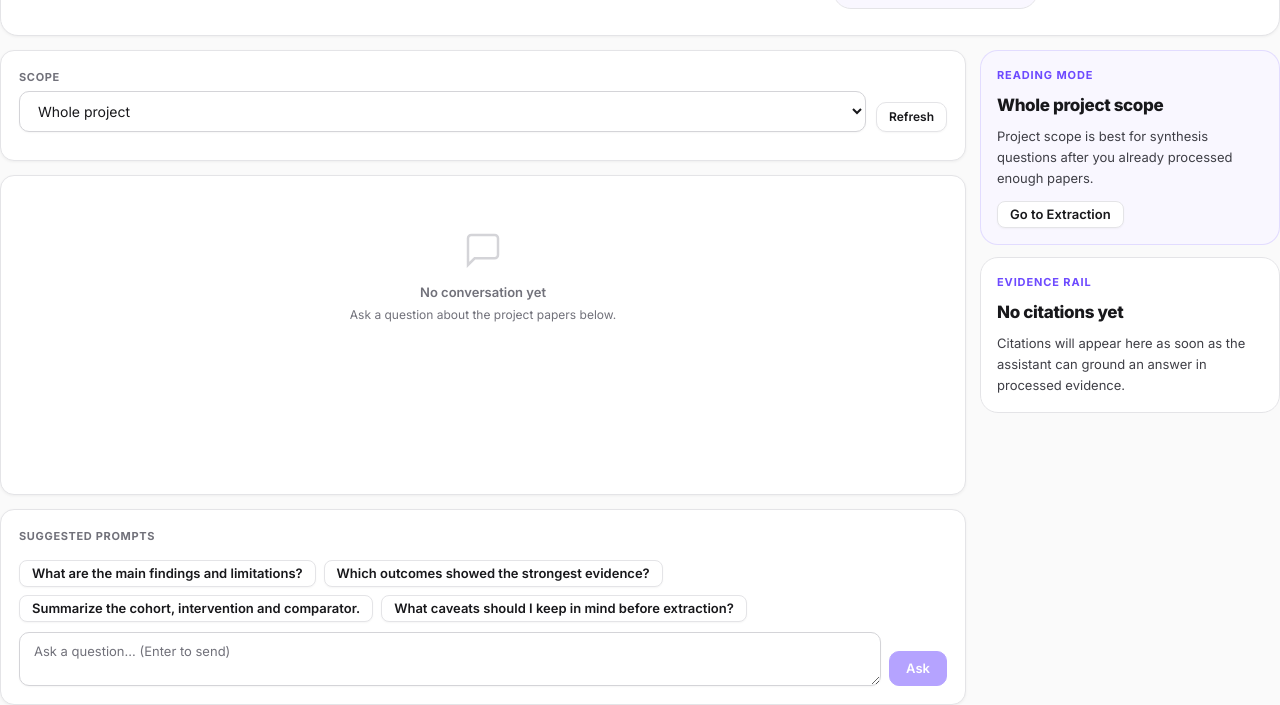
ReaderPage › renders an answer after asking at project scope
The image size is (1280, 705).
(page scrolled)
In the text box with test id "reader-question-input": coordinates (450, 659) [19,632,881,686], type "What is the main result?"
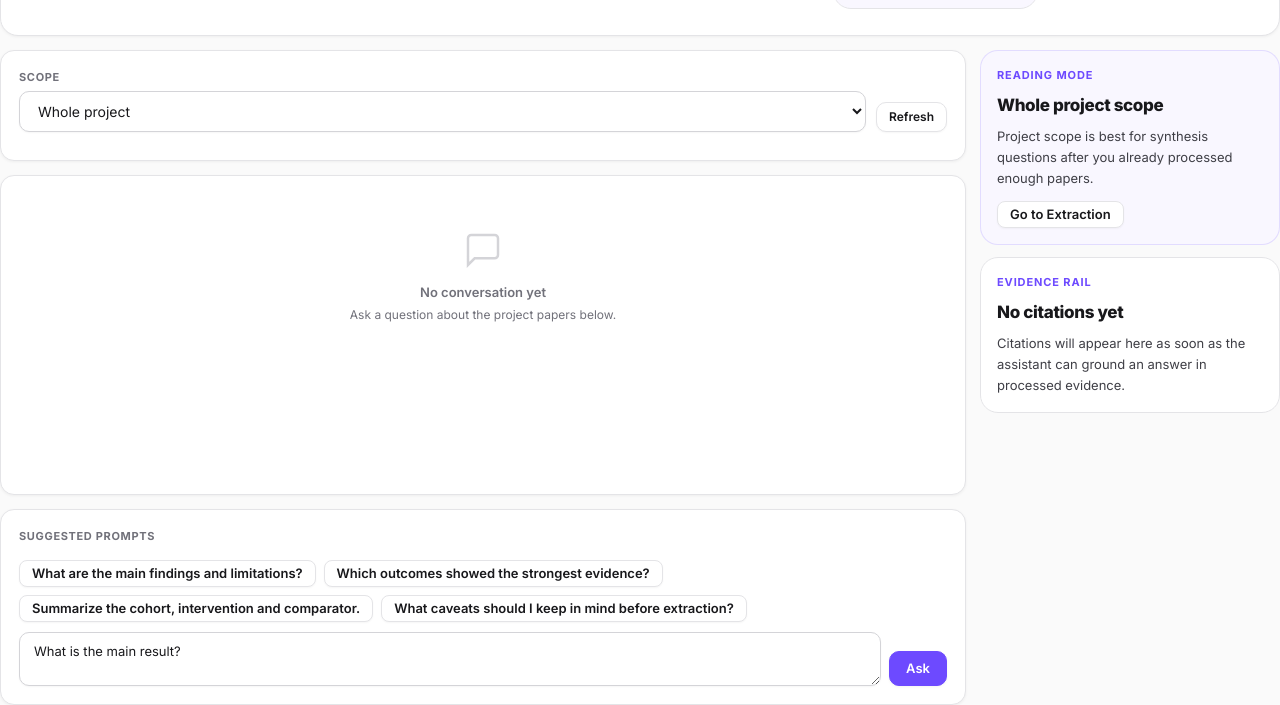
Click the button with test id "reader-ask-button": coordinates (918, 669) [889,651,947,686]
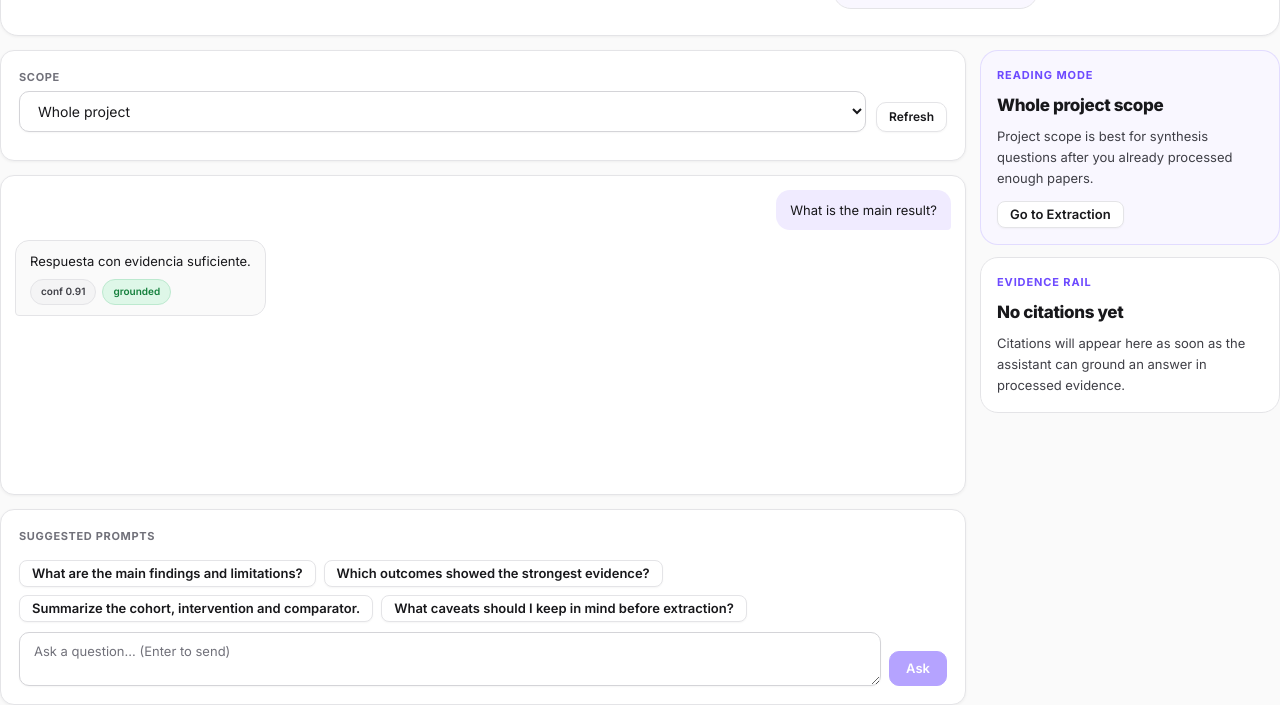
Expected: the element with test id "reader-answer-panel" shows "Respuesta con evidencia suficiente.", [30,253,251,269]
